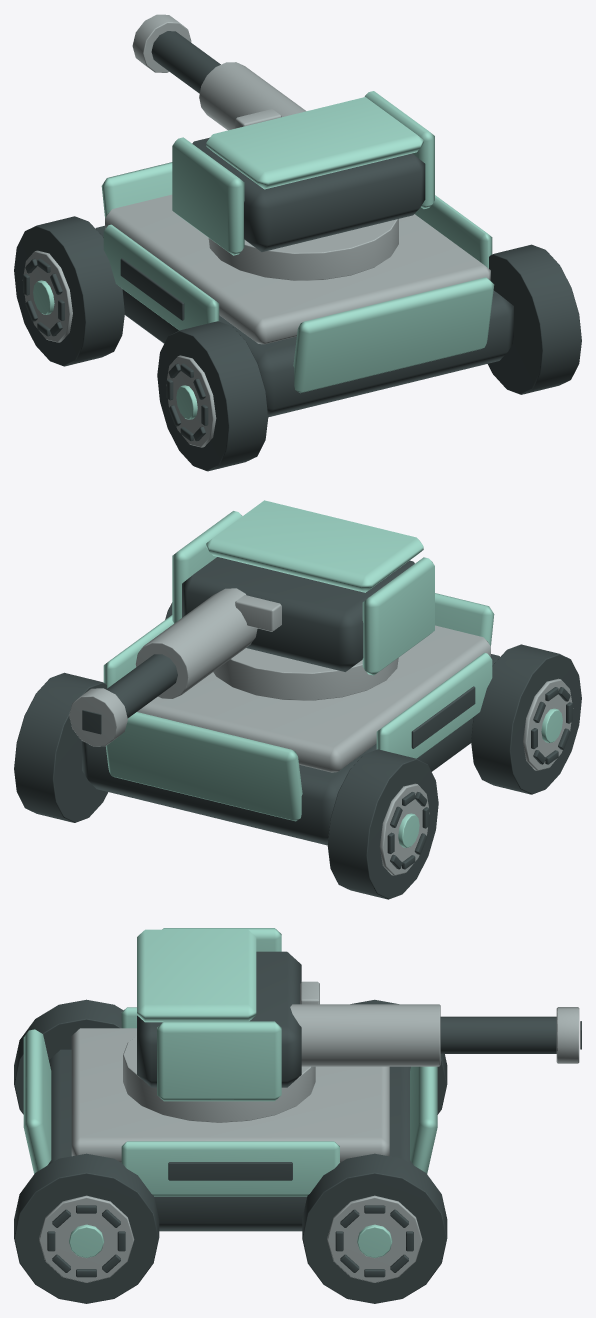
File: hero-neutral.glb
3 renders of one model, top to bottom at view 1: azimuth 30°, elevation 25°; view 2: azimuth 150°, elevation 25°; view 3: azimuth 270°, elevation 25°, orthographic.
Parts seen in each view (by area): view 1: hero-chassis, hero-armor, hero-mechanics; view 2: hero-chassis, hero-armor, hero-mechanics; view 3: hero-chassis, hero-mechanics, hero-armor.
Part boxes in pixels (left/top/right/bottom): hero-chassis: left=14, top=31, right=581, bottom=471; hero-armor: left=33, top=91, right=494, bottom=419; hero-mechanics: left=22, top=14, right=490, bottom=447; hero-chassis: left=14, top=557, right=581, bottom=899; hero-armor: left=103, top=500, right=562, bottom=847; hero-mechanics: left=69, top=588, right=573, bottom=875; hero-chassis: left=14, top=951, right=581, bottom=1303; hero-mechanics: left=39, top=981, right=579, bottom=1282; hero-armor: left=23, top=928, right=437, bottom=1257.
Bounding box in the file's own units: 0.7584 × 0.4875 × 1.
